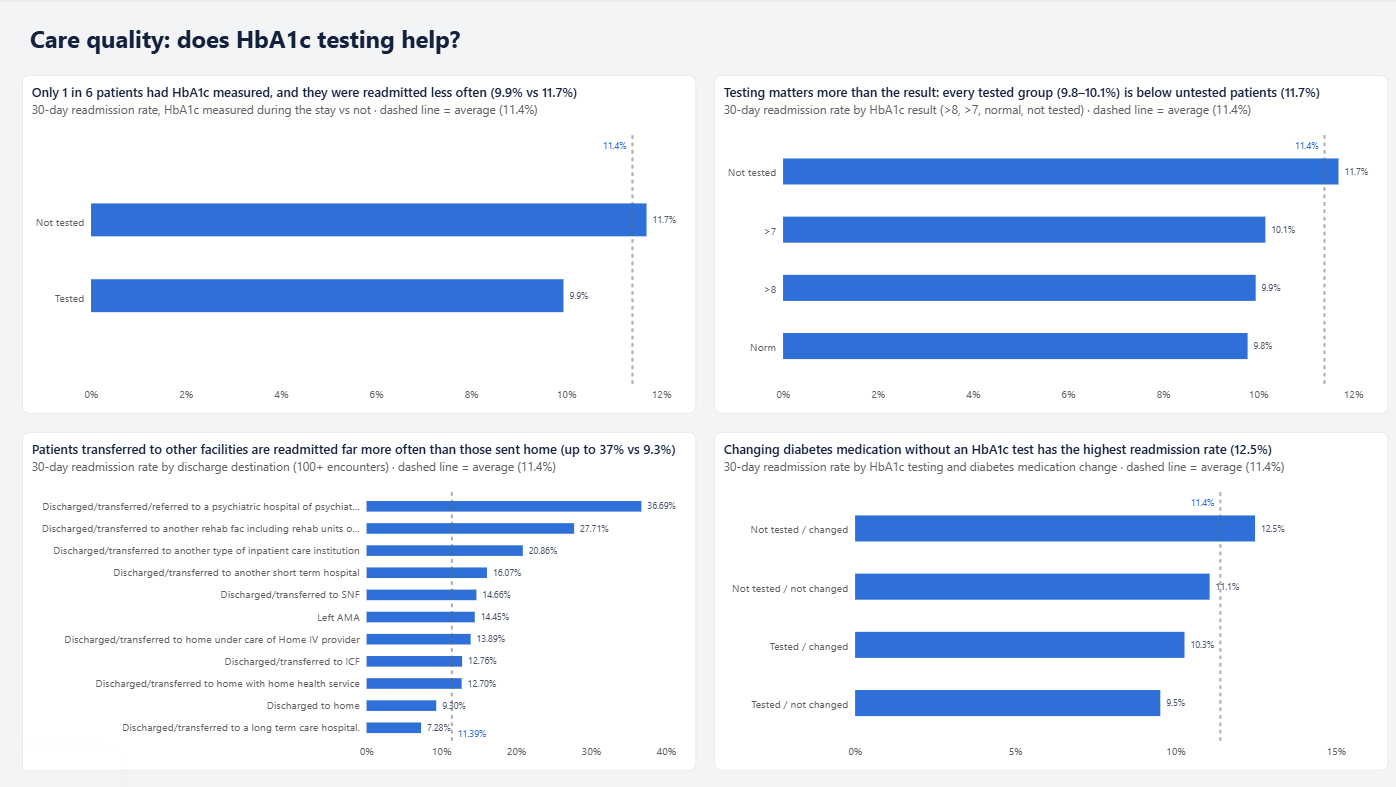

This screenshot's page, from the dashboard's own definition file:
{"tool":"powerbi","page":{"name":"Care quality","canvas":[1920,1080],"ordinal":2},"visuals":[{"type":"clusteredBarChart","title":"Only 1 in 6 patients had HbA1c measured, and they were readmitted less often (9.9% vs 11.7%)","fields":{"Category":["MART_A1C_IMPACT.GRP"],"Y":["Avg(MART_A1C_IMPACT.READMISSION_RATE_30D)"]},"box":[40,104,908,456],"z":0},{"type":"clusteredBarChart","title":"Testing matters more than the result: every tested group (9.8–10.1%) is below untested patients (11.7%)","fields":{"Category":["MART_A1C_IMPACT.GRP"],"Y":["Avg(MART_A1C_IMPACT.READMISSION_RATE_30D)"]},"box":[972,104,908,456],"z":1000},{"type":"clusteredBarChart","title":"Changing diabetes medication without an HbA1c test has the highest readmission rate (12.5%)","fields":{"Category":["MART_A1C_IMPACT.GRP"],"Y":["Avg(MART_A1C_IMPACT.READMISSION_RATE_30D)"]},"box":[972,584,908,456],"z":2000},{"type":"clusteredBarChart","title":"Patients transferred to other facilities are readmitted far more often than those sent home (up to 37% vs 9.3%)","fields":{"Category":["DIM_DISCHARGE.DISCHARGE_DISPOSITION"],"Y":["FCT_ENCOUNTER.Readmission Rate 30d"]},"box":[40,584,908,456],"z":3000},{"type":"textbox","box":[39.4,23.3,1841.2,64.2],"z":20000}]}

Visuals, with their boxes in screenshot pixels (x1, y1, x2, y2), scaled from the page's 1920x1080 canvas onto the 1396x787 screenshot:
"Only 1 in 6 patients had HbA1c measured, and they were readmitted less often (9.9% vs 11.7%)" clusteredBarChart: 29,76,689,408
"Testing matters more than the result: every tested group (9.8–10.1%) is below untested patients (11.7%)" clusteredBarChart: 707,76,1367,408
"Changing diabetes medication without an HbA1c test has the highest readmission rate (12.5%)" clusteredBarChart: 707,426,1367,758
"Patients transferred to other facilities are readmitted far more often than those sent home (up to 37% vs 9.3%)" clusteredBarChart: 29,426,689,758
textbox: 29,17,1367,64
